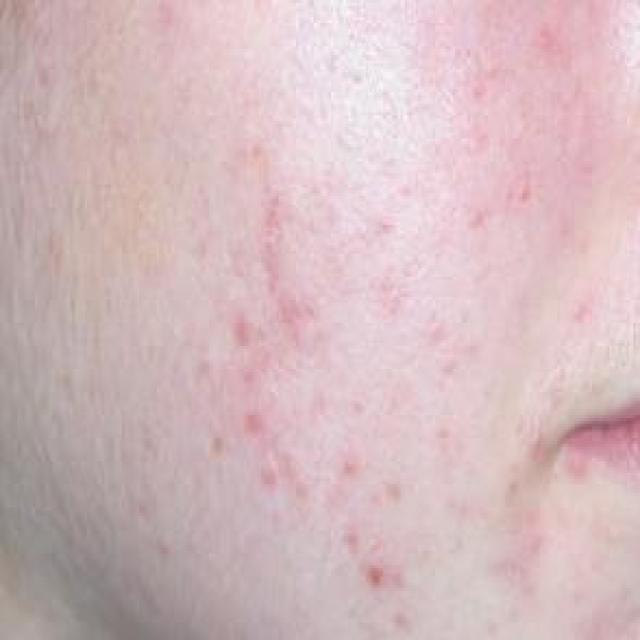Acne: (258, 185, 284, 304), (358, 557, 412, 594), (277, 298, 320, 344), (227, 305, 258, 354), (240, 406, 271, 440)
